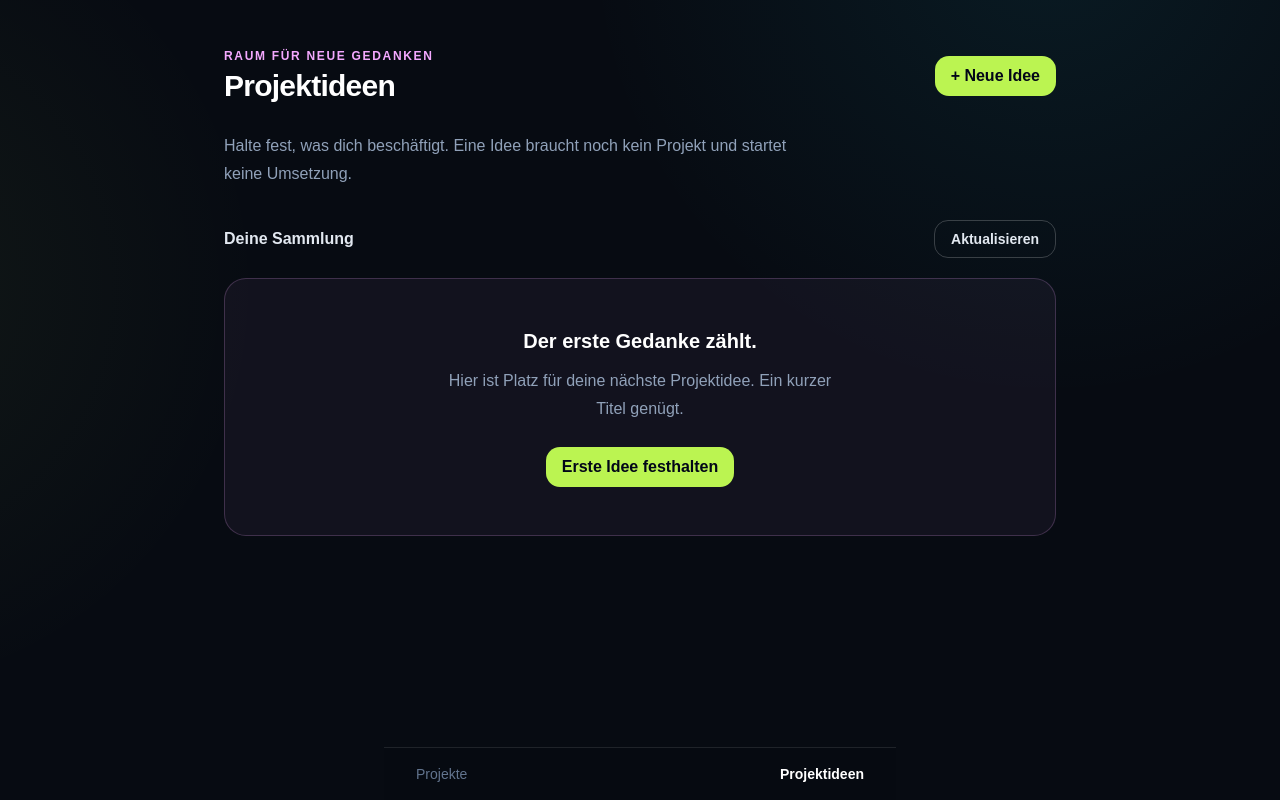
Projektideen › legt eine eigenständige Idee ohne Projekt an und zeigt das gespeicherte Ergebnis
Click the button "+ Neue Idee" at (995, 76), box [935,56,1056,96]
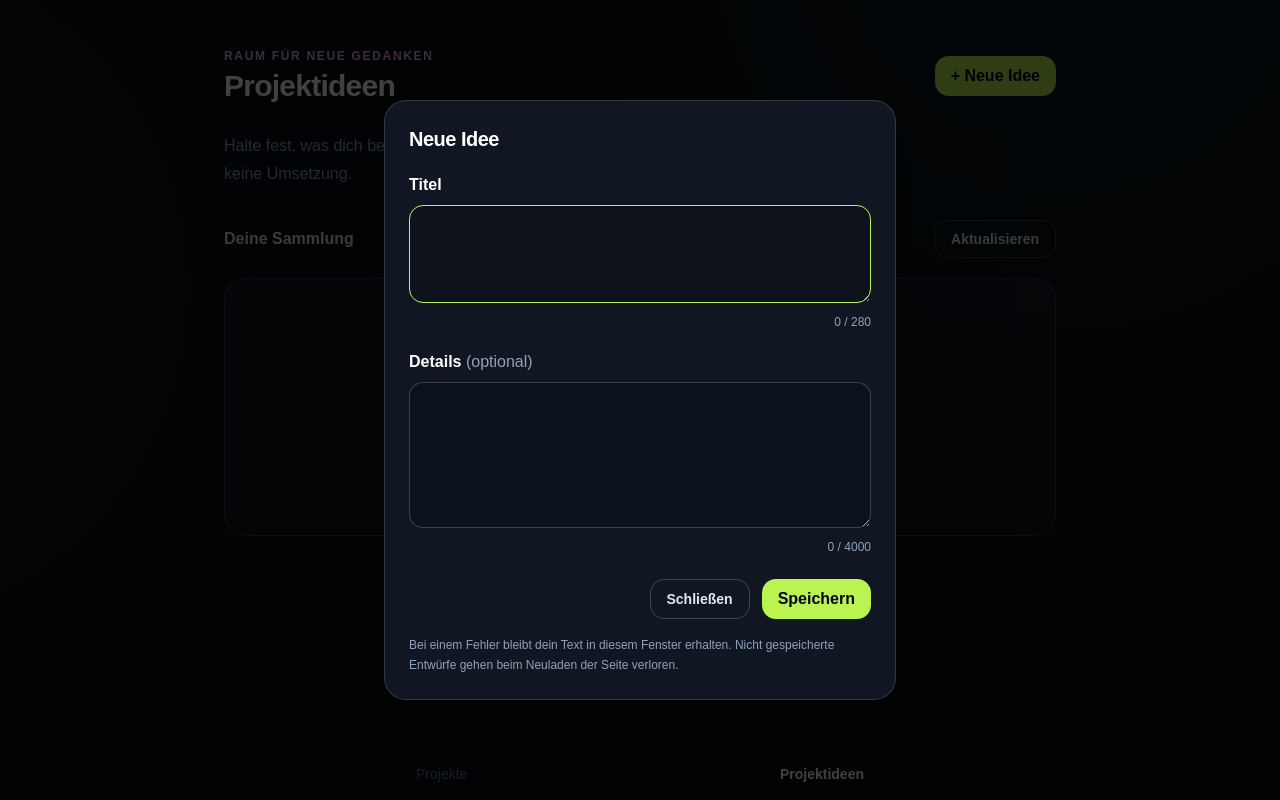
Type "Ein Lesetagebuch" into the text box labelled "Titel" at (640, 254), box [409,205,871,303]
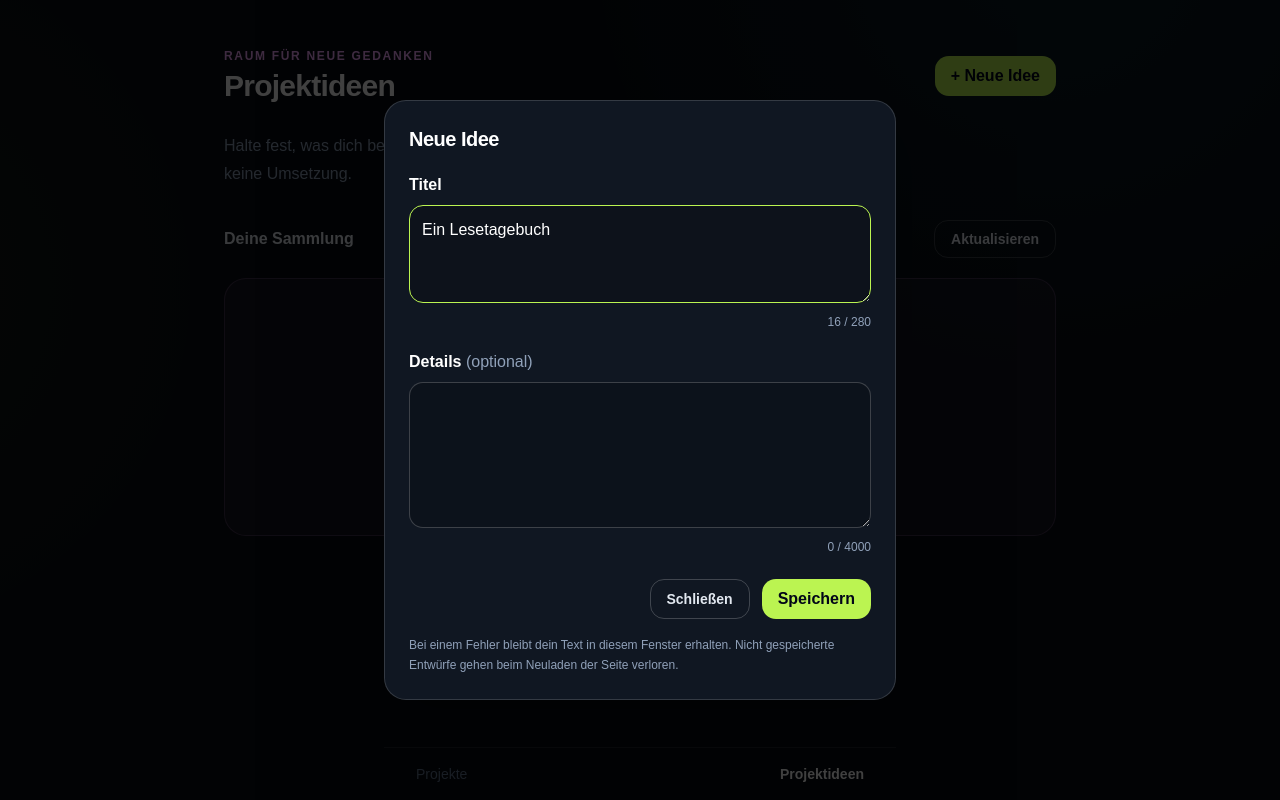
Type "Meine Notizen" into the text box labelled "Details (optional)" at (640, 455), box [409,382,871,528]
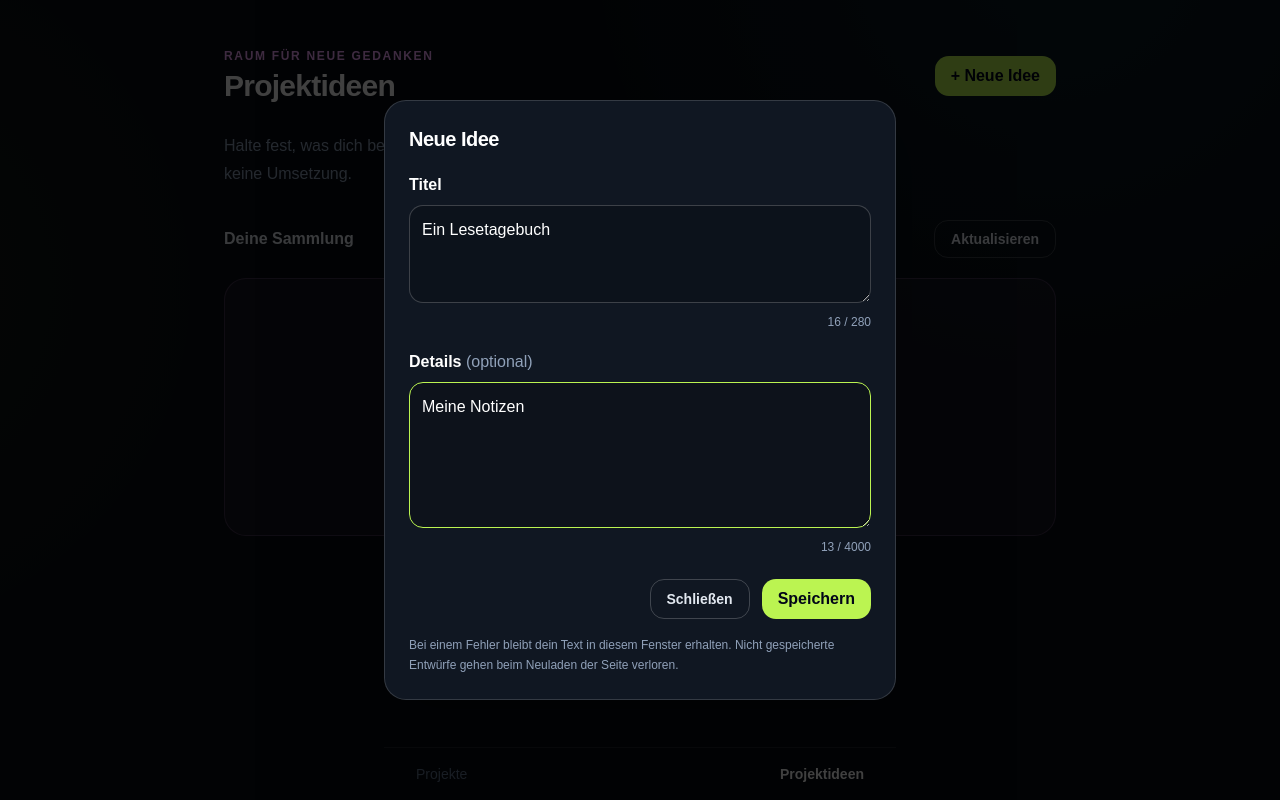
Click the button "Speichern" at (816, 599), box [762,579,871,619]
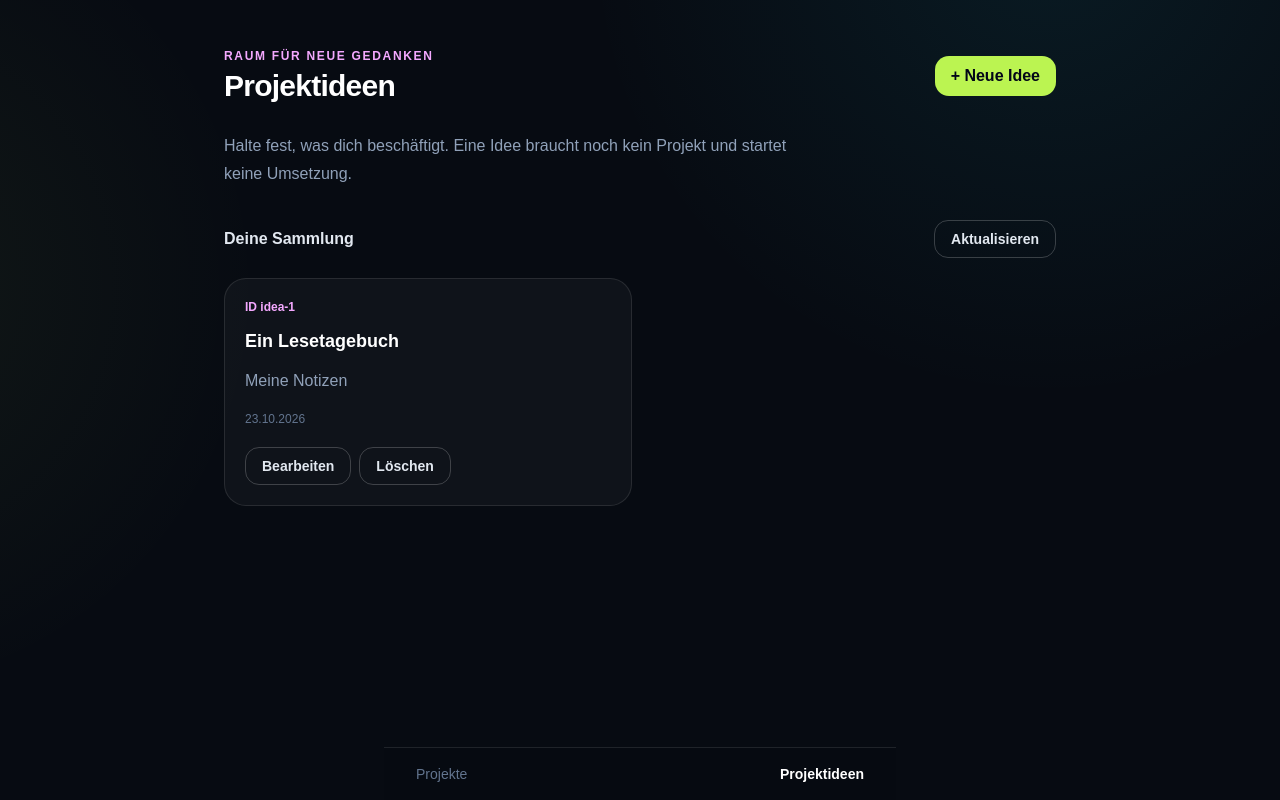
Expected: the heading "Ein Lesetagebuch" is shown, [245,331,399,351]
Expected: the dialog is gone
